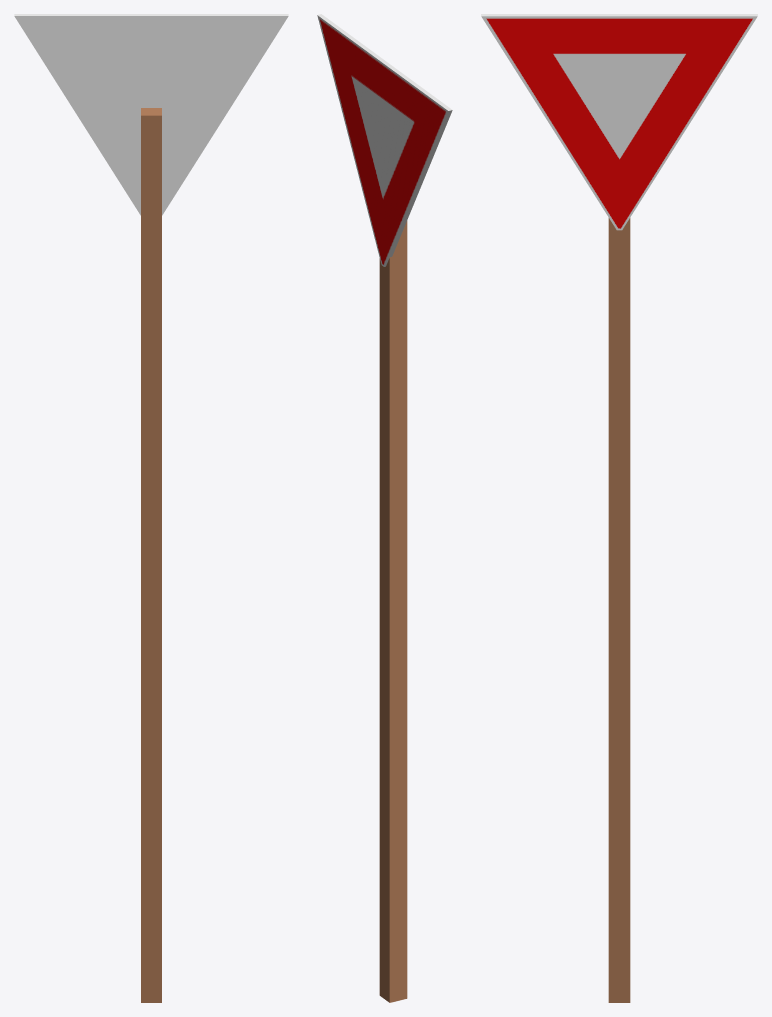
File: sign10.fbx
The picture shows the model from 3 angles, left to right: view 1: azimuth 90°, elevation 25°; view 2: azimuth 210°, elevation 25°; view 3: azimuth 270°, elevation 25°; orthographic projection. The views are drawn at different scales.
Visible parts, largest first — view 1: Cylinder.012_Cylinder.001; view 2: Cylinder.012_Cylinder.001; view 3: Cylinder.012_Cylinder.001.
Part boxes in pixels (left/top/right/bottom): Cylinder.012_Cylinder.001: left=14, top=14, right=288, bottom=1002; Cylinder.012_Cylinder.001: left=317, top=14, right=452, bottom=1002; Cylinder.012_Cylinder.001: left=481, top=14, right=757, bottom=1002.
Bounding box in the file's own units: 8.32 × 384 × 97.42.
